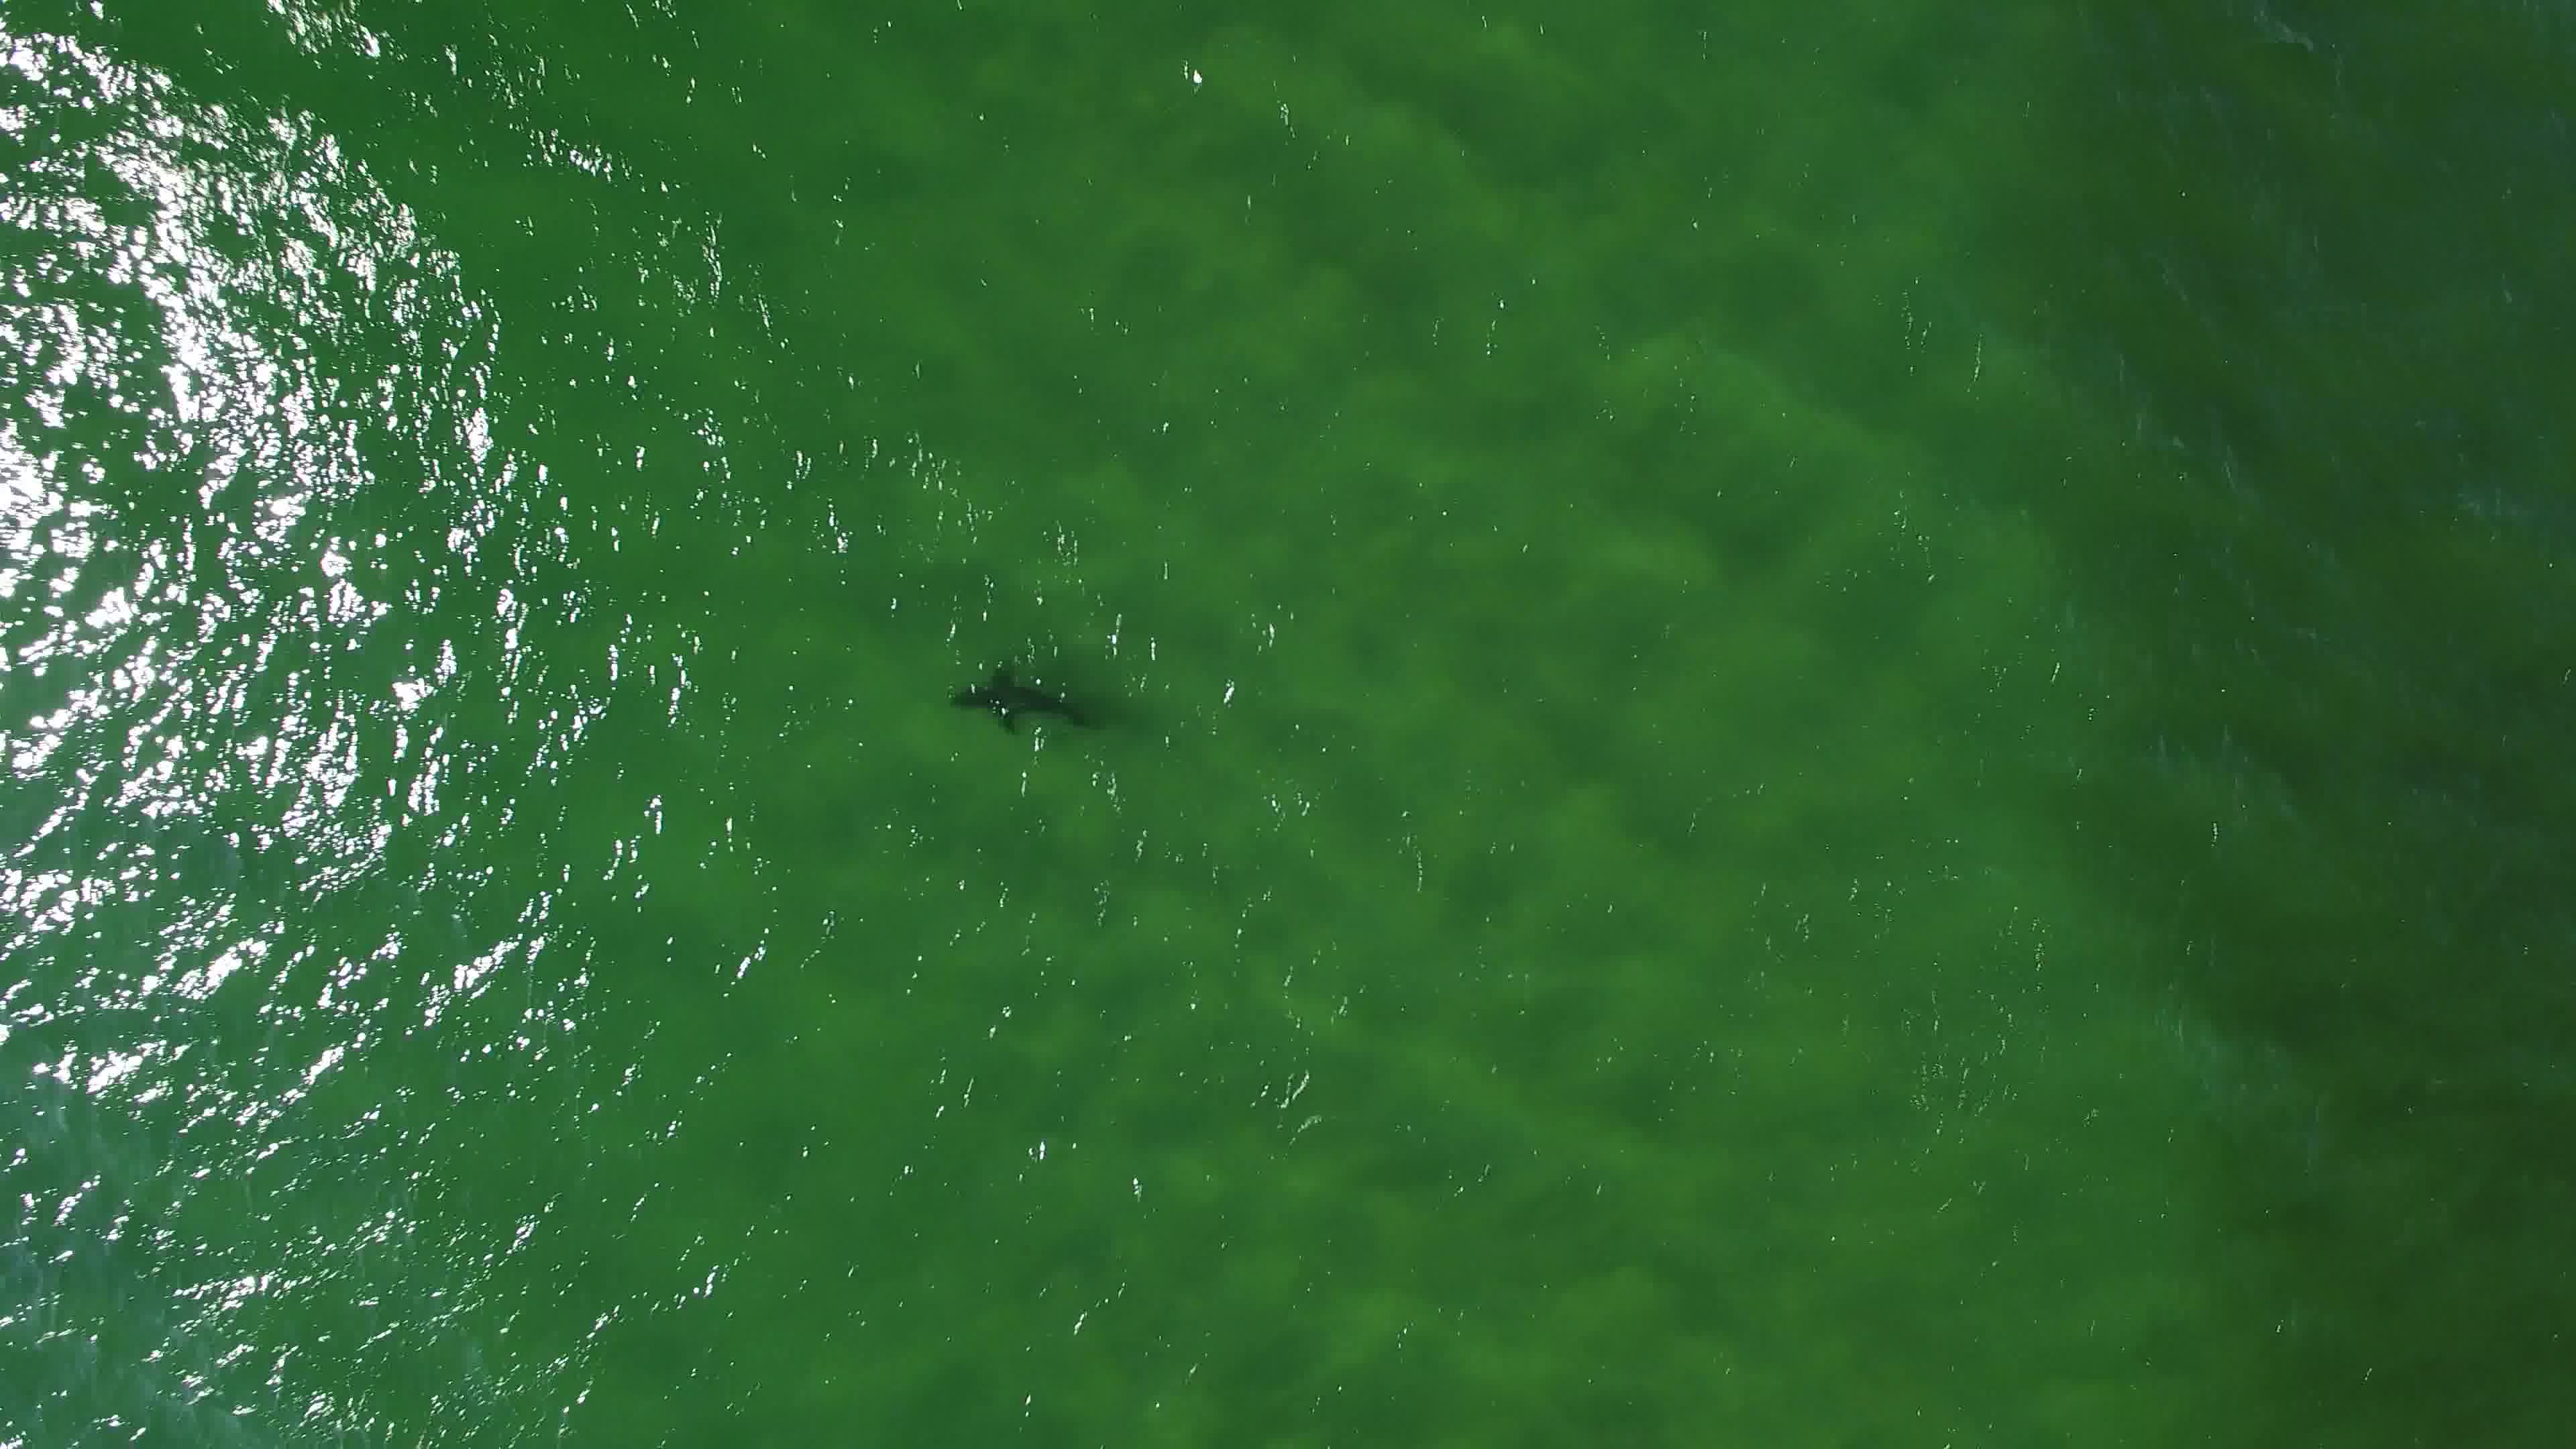shark: (947, 658, 1100, 747)
